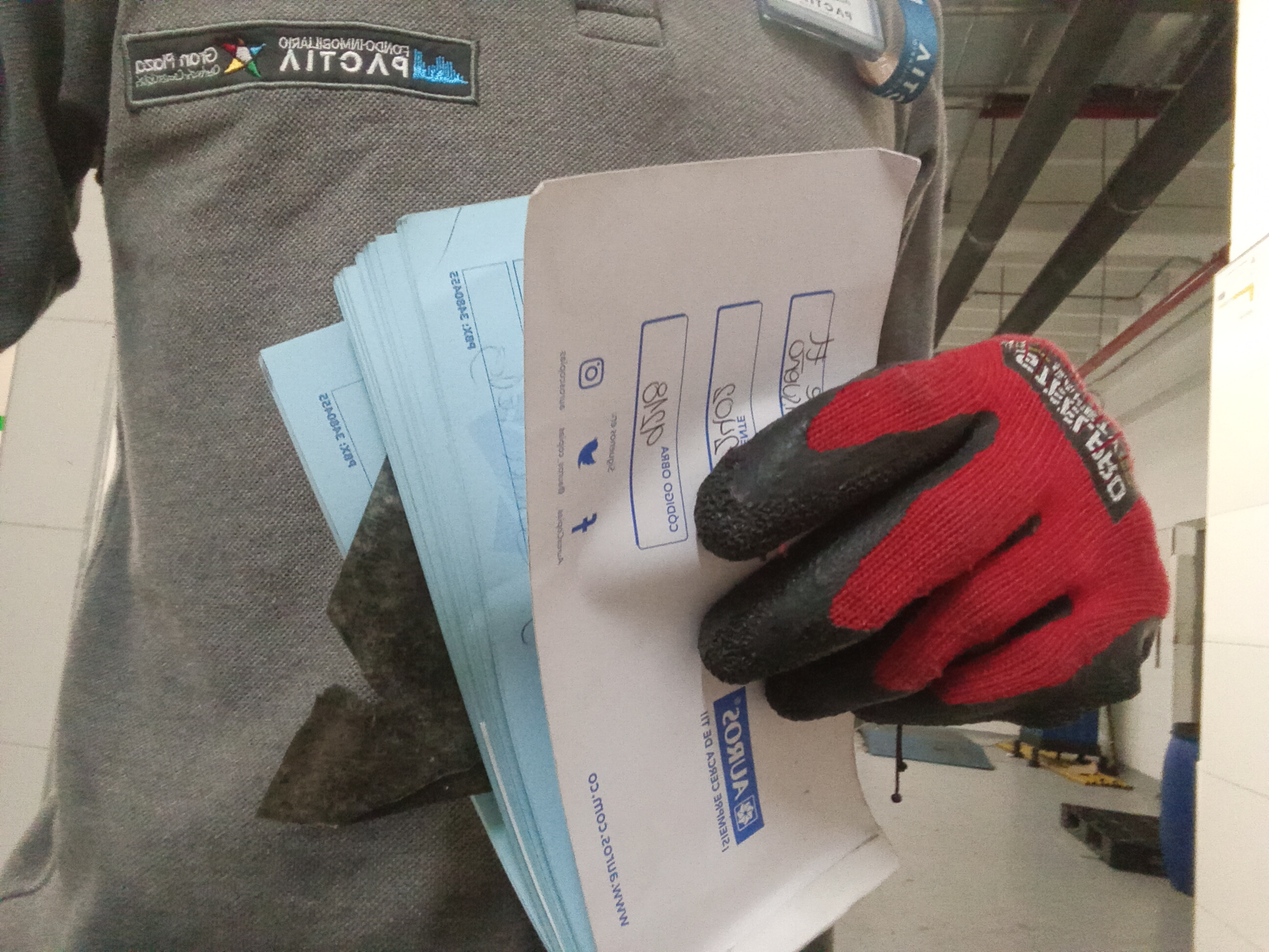Papel: (256, 147, 920, 952)
